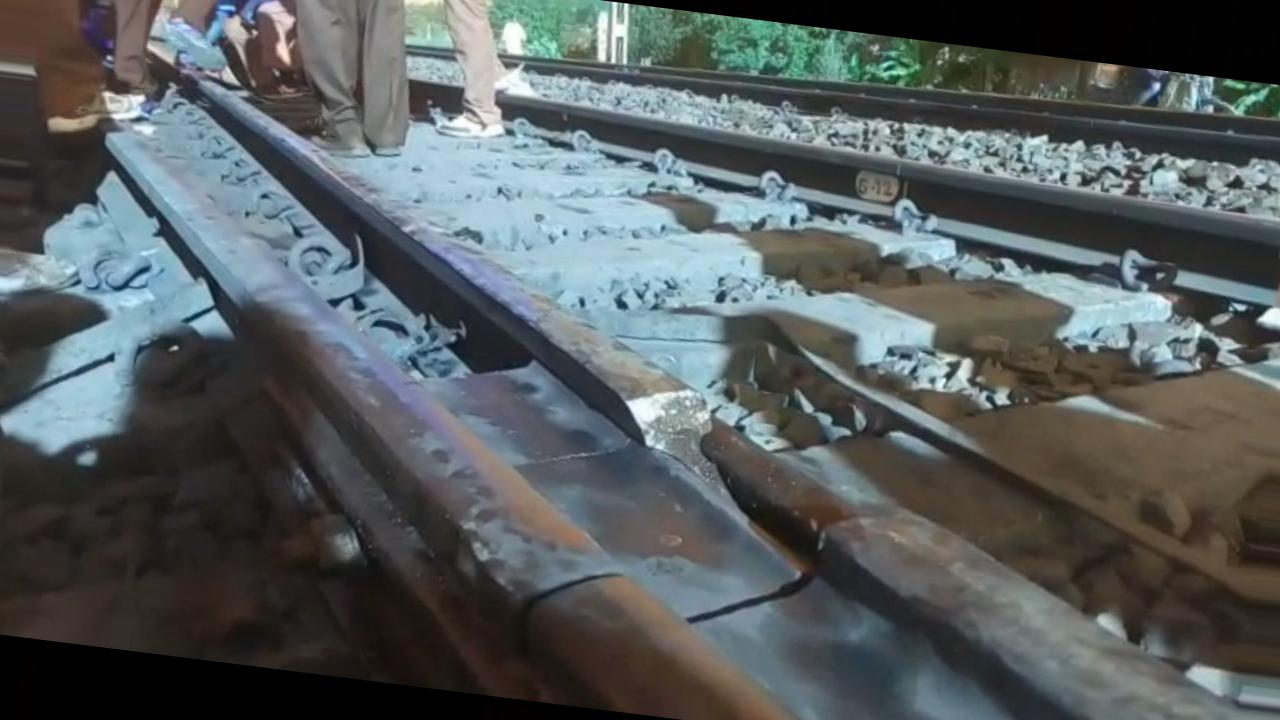tracks_fault: (619, 354, 766, 537)
